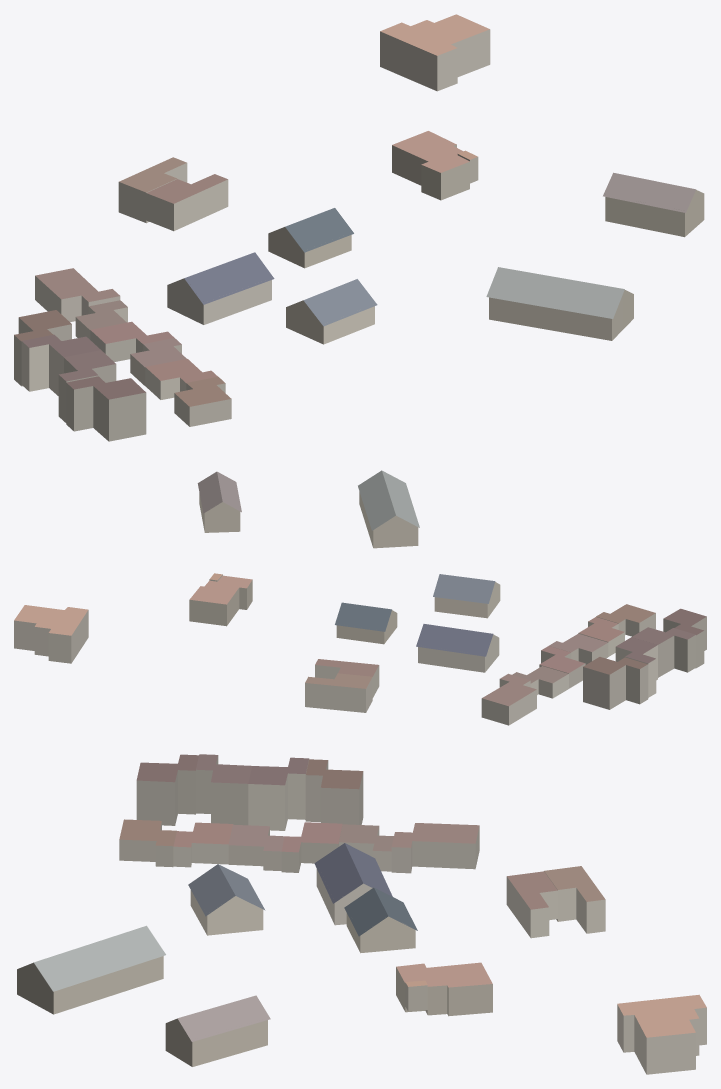
3 views of the same model, one above another, from view 1: azimuth 30°, elevation 25°; view 2: azimuth 150°, elevation 25°; view 3: azimuth 270°, elevation 25° (orthographic). The views are drawn at different scales.
Parts seen in each view (by area): view 1: tuile; view 2: tuile; view 3: tuile.
Part boxes in pixels (box(x1,y1,x2,y2)): tuile: box(14, 14, 704, 441); tuile: box(14, 470, 706, 725); tuile: box(17, 754, 706, 1074).
Size of the model in its own units: 134 by 18.83 by 120.
